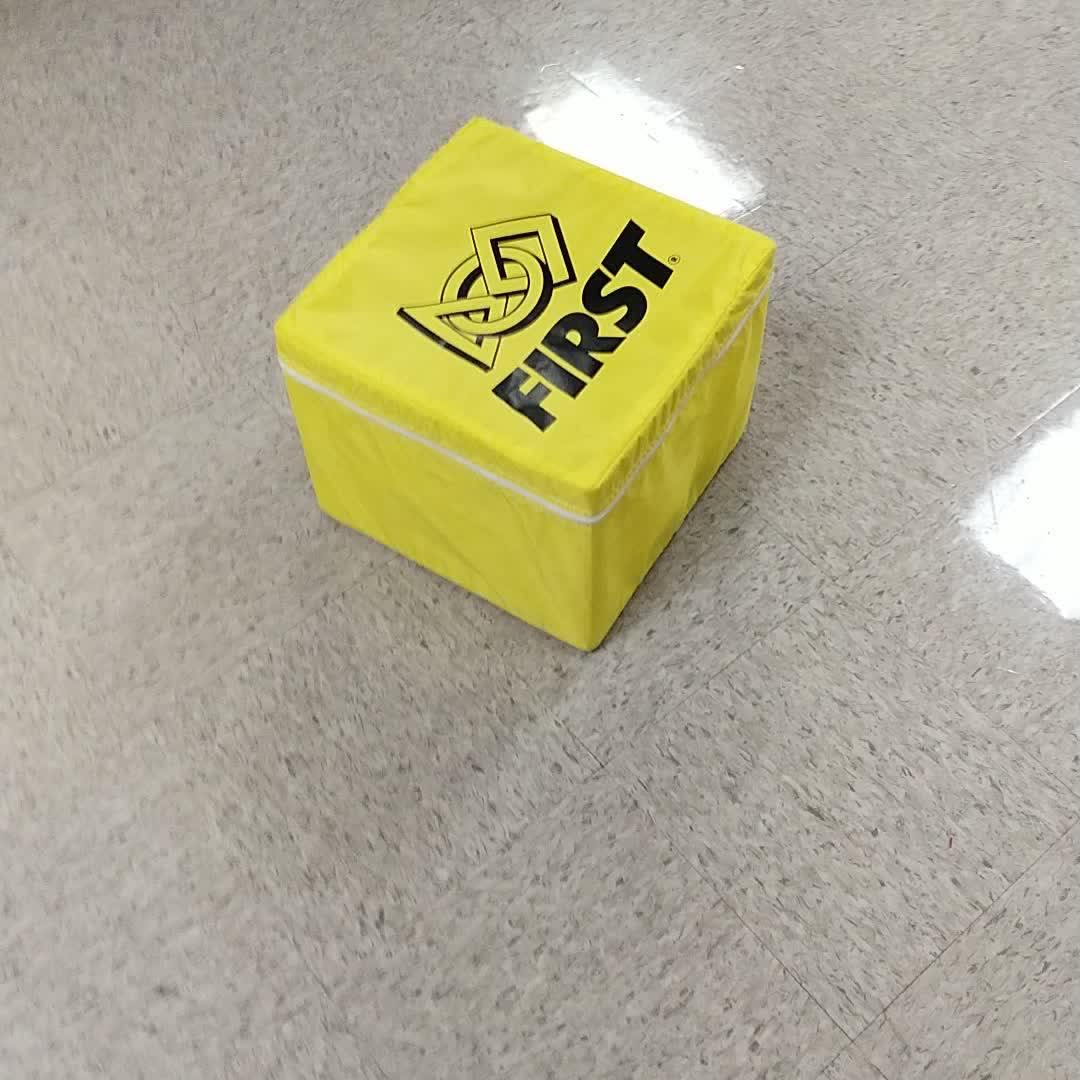box: (248, 97, 789, 661)
